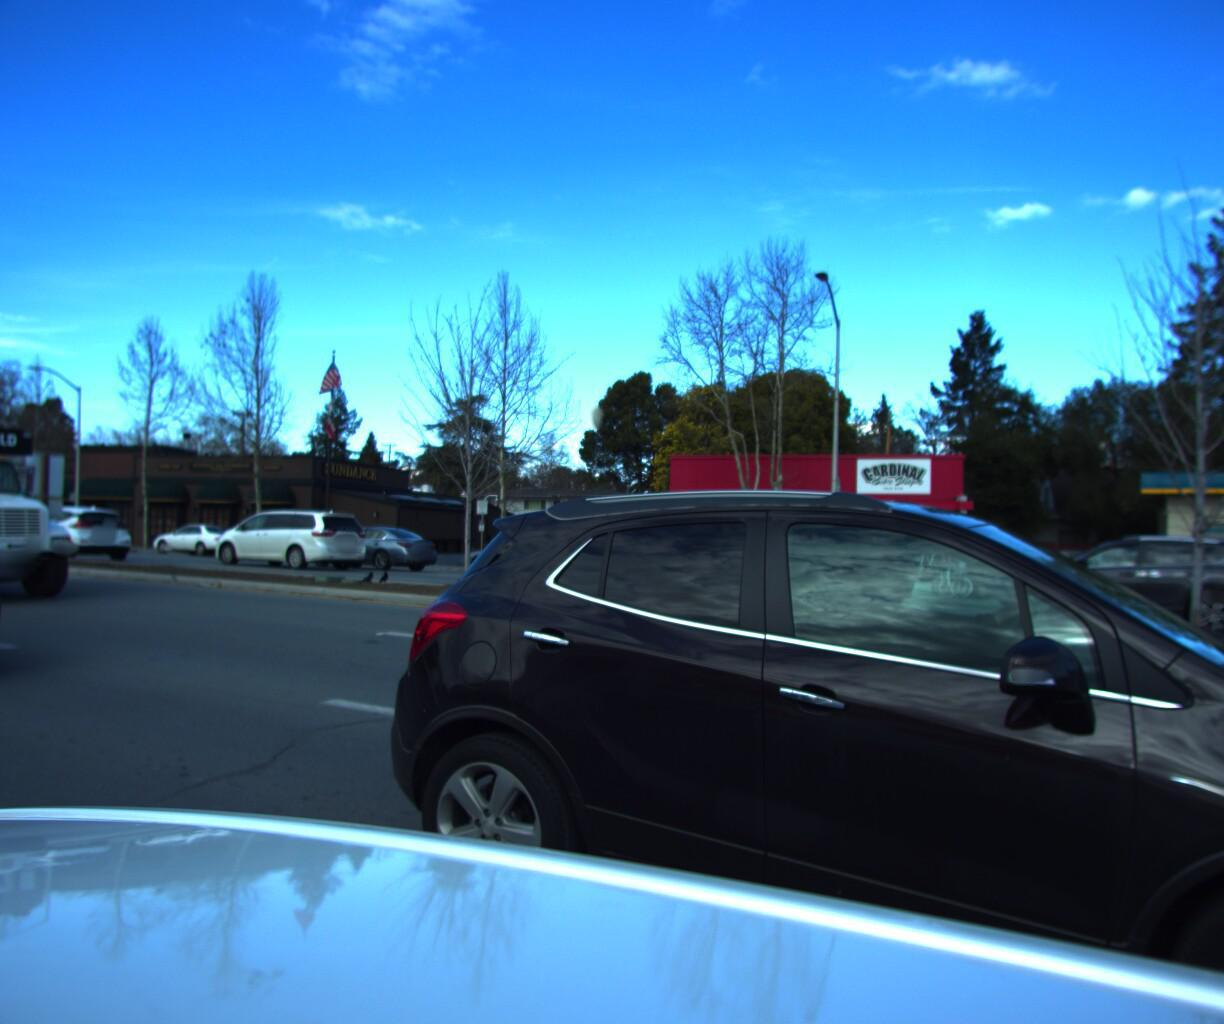car: (380, 474, 1224, 1024), (977, 530, 1224, 639), (205, 503, 380, 573), (0, 462, 35, 725), (0, 498, 138, 563), (1146, 523, 1224, 629), (295, 518, 442, 570), (454, 529, 599, 581), (145, 517, 254, 558)
truck: (0, 386, 106, 614)
